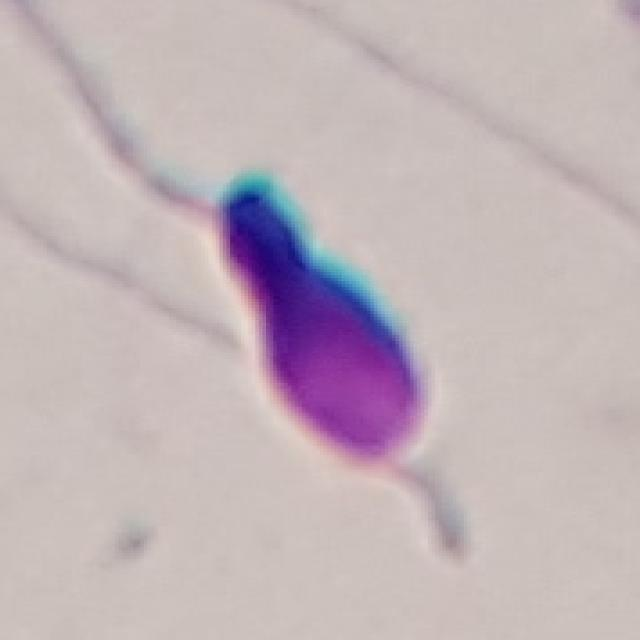abnormal sperm: (96, 116, 430, 466)
